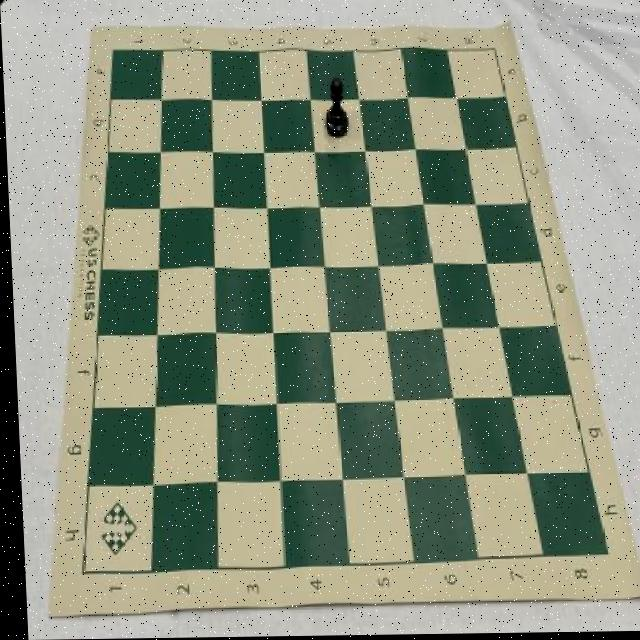black-knight: (321, 79, 349, 139)
